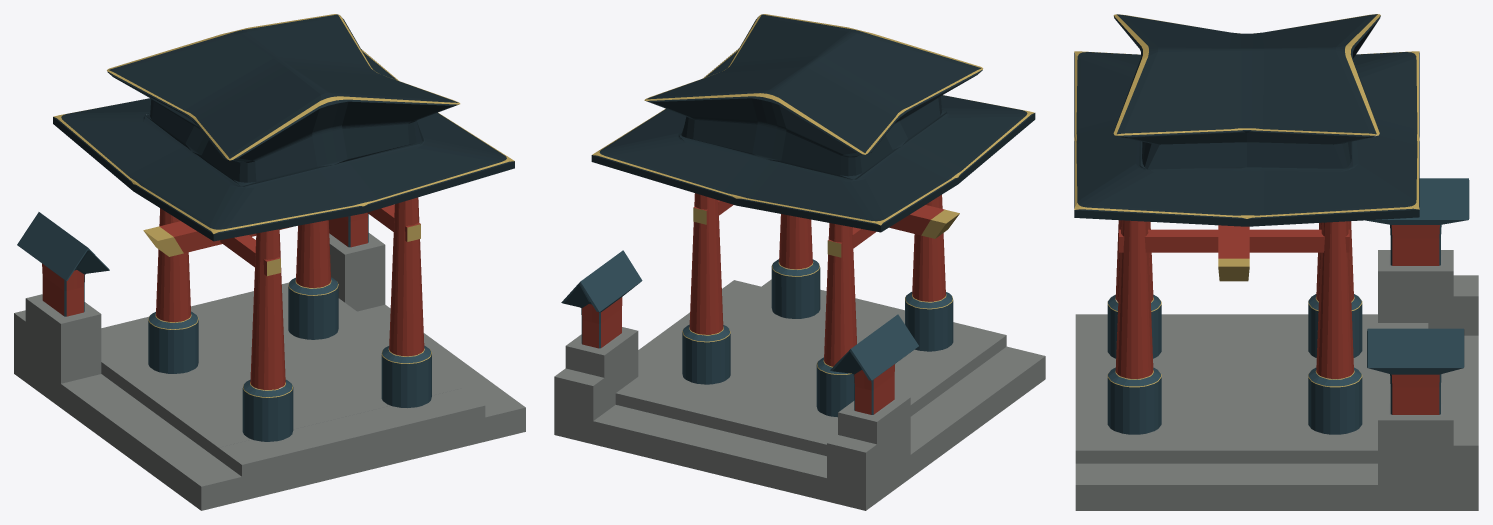
The model's file is inori.fbx.
The picture shows the model from 3 angles, left to right: view 1: azimuth 30°, elevation 25°; view 2: azimuth 150°, elevation 25°; view 3: azimuth 270°, elevation 25°; orthographic projection. The views are drawn at different scales.
Visible parts, largest first — view 1: Cube.005; view 2: Cube.005; view 3: Cube.005.
Part boxes in pixels (bbox=[...]): Cube.005: bbox=[14, 14, 525, 510]; Cube.005: bbox=[554, 14, 1045, 510]; Cube.005: bbox=[1074, 14, 1478, 510].
Size of the model in its own units: 101 by 104 by 101.
